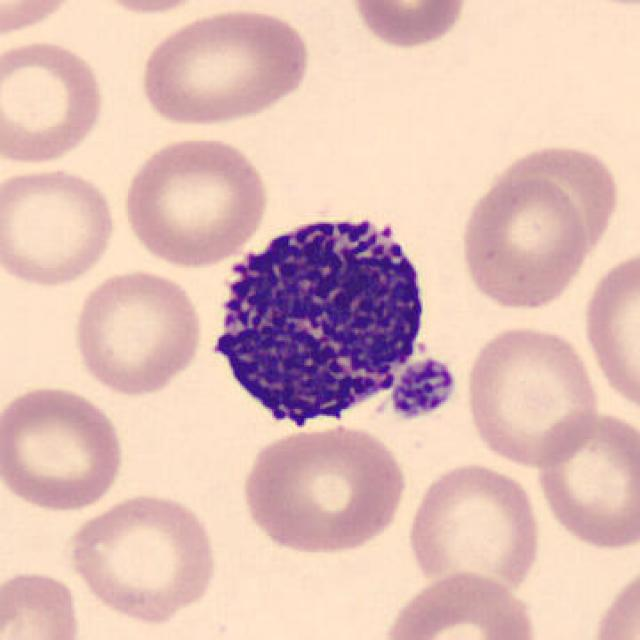Basophil: (194, 192, 453, 443)
Platelets: (386, 354, 460, 424)
RBC: (237, 422, 410, 558), (135, 4, 315, 130), (62, 488, 220, 626), (117, 132, 272, 270), (460, 321, 602, 469), (457, 167, 594, 314), (404, 458, 544, 596), (68, 264, 206, 398), (0, 381, 128, 513), (532, 404, 638, 554), (0, 164, 121, 291), (0, 37, 108, 167), (504, 146, 618, 268), (378, 567, 542, 640), (579, 243, 640, 421), (343, 0, 473, 51), (0, 566, 85, 640), (587, 559, 638, 640), (0, 0, 85, 42), (78, 0, 222, 16), (558, 0, 640, 14)
